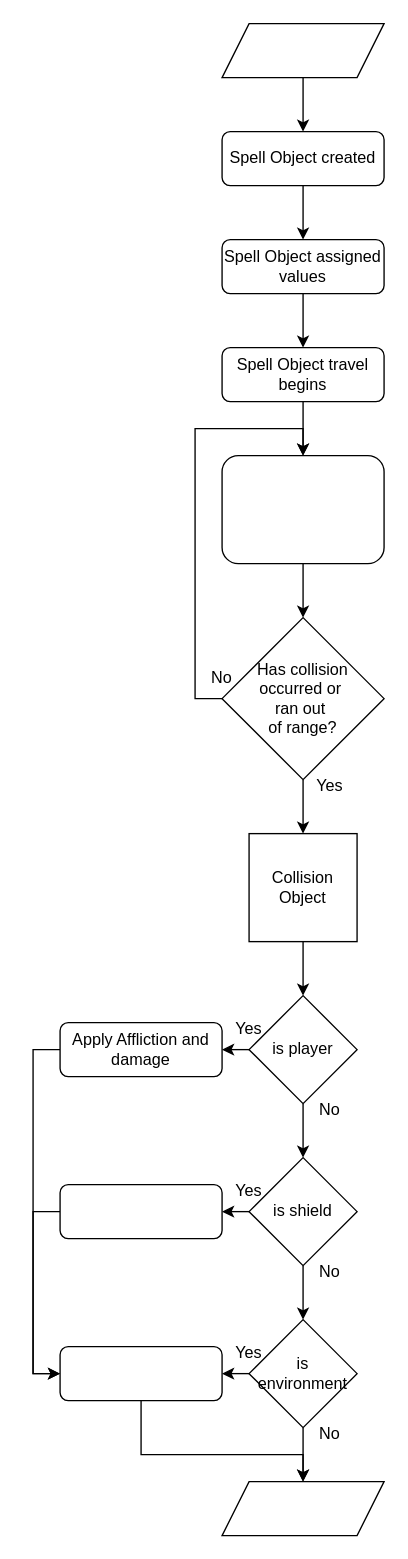
Some shapes in this 408 by 1559 pixel diagram are drawn without their labels. Here are the shapes that lost their labels. From the top down, the centre of each, then its label:
point (302, 50): Firebolt cast
point (302, 509): apply movement multiplied by time delta
point (140, 1211): Apply damage
point (140, 1373): Create collision effect
point (302, 1508): Destroy spell object
